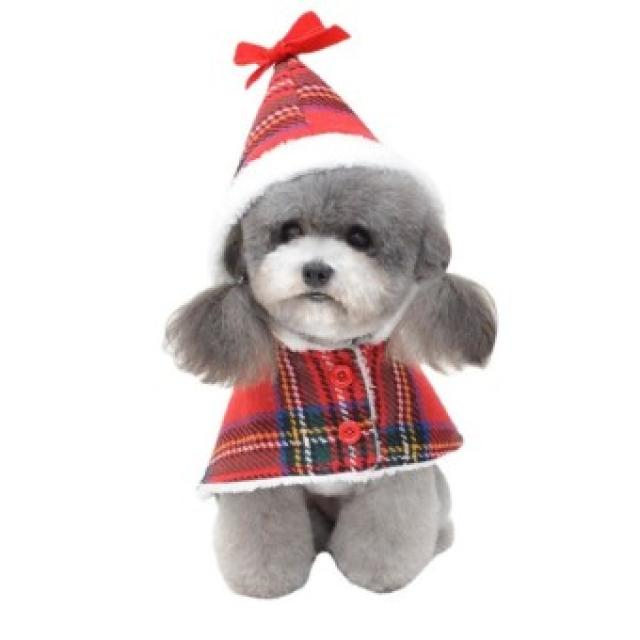cloth: (201, 342, 462, 492)
